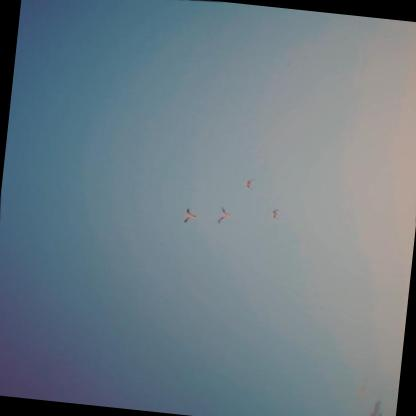bird: (213, 203, 233, 225), (181, 207, 198, 224), (245, 176, 258, 189), (271, 207, 282, 220)
